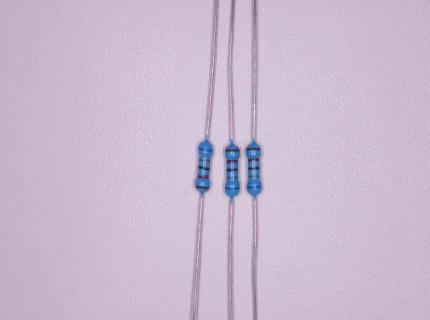Black band: (198, 165, 210, 171), (227, 168, 239, 172), (248, 166, 260, 170)
Blue band: (198, 148, 213, 152), (247, 185, 261, 189), (225, 187, 240, 190)
Brown band: (195, 185, 210, 190), (225, 148, 240, 152), (246, 147, 261, 151)
Grey band: (199, 159, 211, 163), (248, 175, 260, 178), (227, 176, 238, 179)
Red band: (196, 174, 209, 179), (226, 159, 238, 164), (248, 158, 260, 162)
